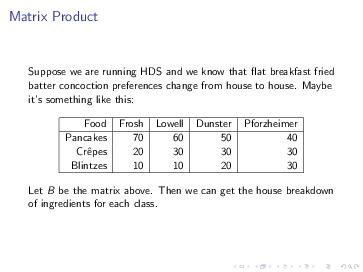paragraph: (14, 52, 352, 229)
title: (7, 8, 103, 26)
